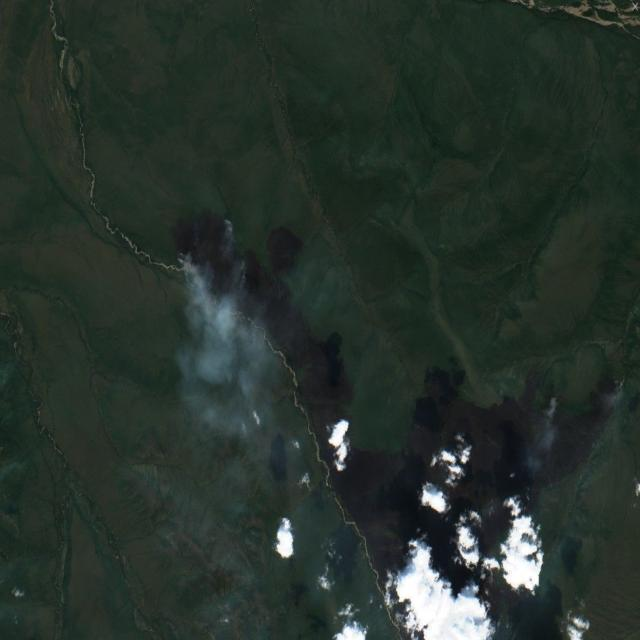fire: (172, 207, 256, 308)
